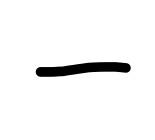minus: (33, 65, 132, 78)
